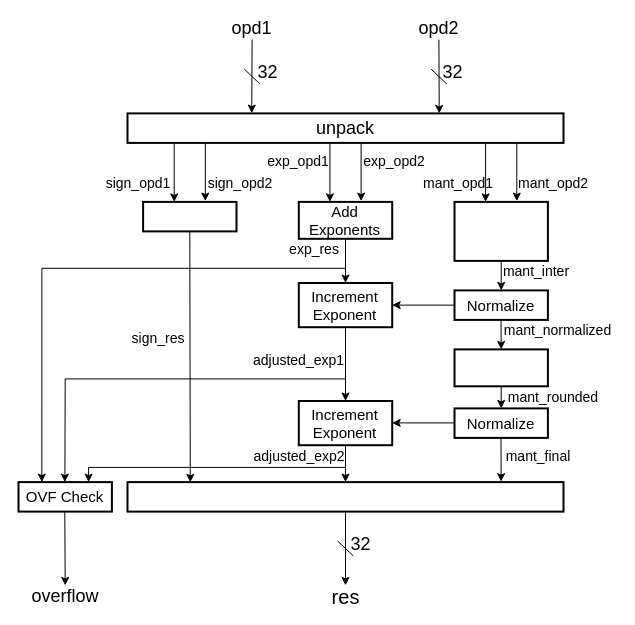
Image size: 635x625. Some labels were removed from this diagram. Each missing label, with the centre of its shape:
"Multiply Mantissas" goes at point (500, 230).
"pack" goes at point (345, 496).
"Rounding logic" goes at point (500, 367).
"XOR" goes at point (189, 216).
